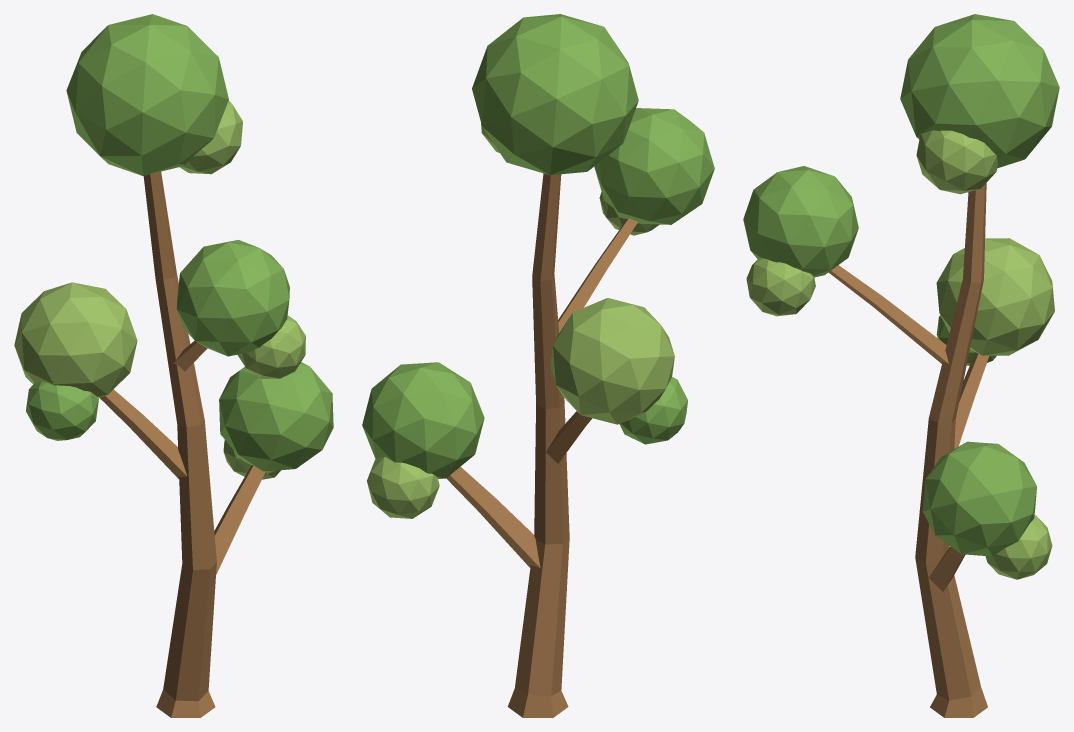
Rendered from mdvl_nature_oak_sapling_01.glb.
3 views of the same model, side by side, from view 1: azimuth 30°, elevation 25°; view 2: azimuth 150°, elevation 25°; view 3: azimuth 270°, elevation 25° (orthographic). The views are drawn at different scales.
Visible parts, largest first — view 1: mdvl_nature_oak_sapling_01; view 2: mdvl_nature_oak_sapling_01; view 3: mdvl_nature_oak_sapling_01.
Part boxes in pixels (x1,y1,x2,y2): mdvl_nature_oak_sapling_01: (14,14,333,717); mdvl_nature_oak_sapling_01: (362,14,714,717); mdvl_nature_oak_sapling_01: (743,14,1059,717).
Size of the model in its own units: 0.6394 by 1.39 by 0.5919.
Materials: 1 (1 with a texture image).
